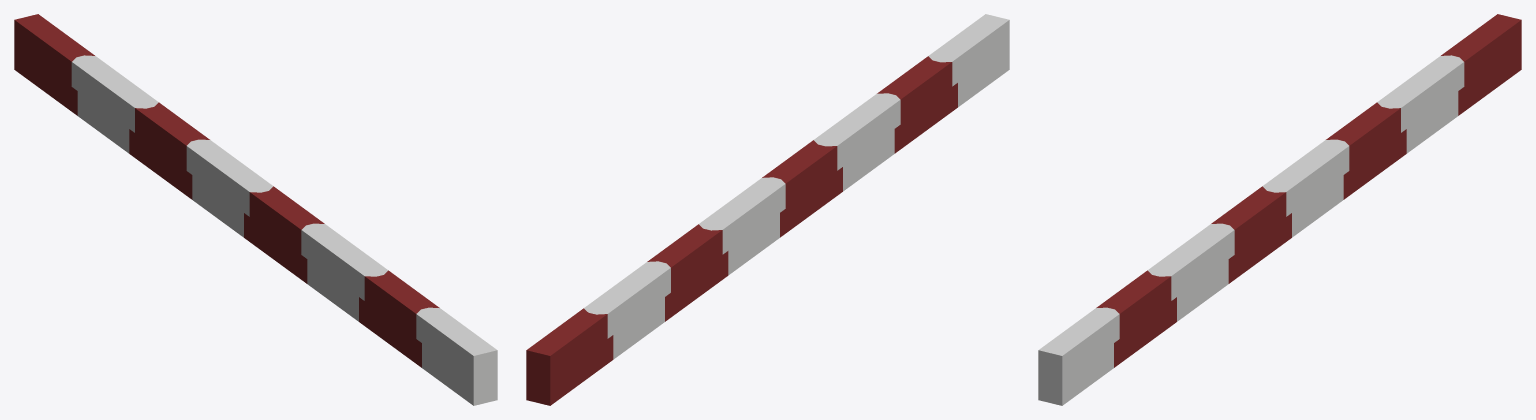
File: racing-plastic-barriers.glb
3 views of the same model, side by side, from view 1: azimuth 30°, elevation 25°; view 2: azimuth 150°, elevation 25°; view 3: azimuth 330°, elevation 25° (orthographic).
Visible parts, largest first — view 1: plastic-barriers-20m-low-poly; view 2: plastic-barriers-20m-low-poly; view 3: plastic-barriers-20m-low-poly.
Part boxes in pixels (<box>): plastic-barriers-20m-low-poly: <box>14,14,497,405</box>; plastic-barriers-20m-low-poly: <box>526,14,1009,405</box>; plastic-barriers-20m-low-poly: <box>1038,14,1521,405</box>.
Bounding box in the file's own units: 0.6 × 1.2 × 20.
